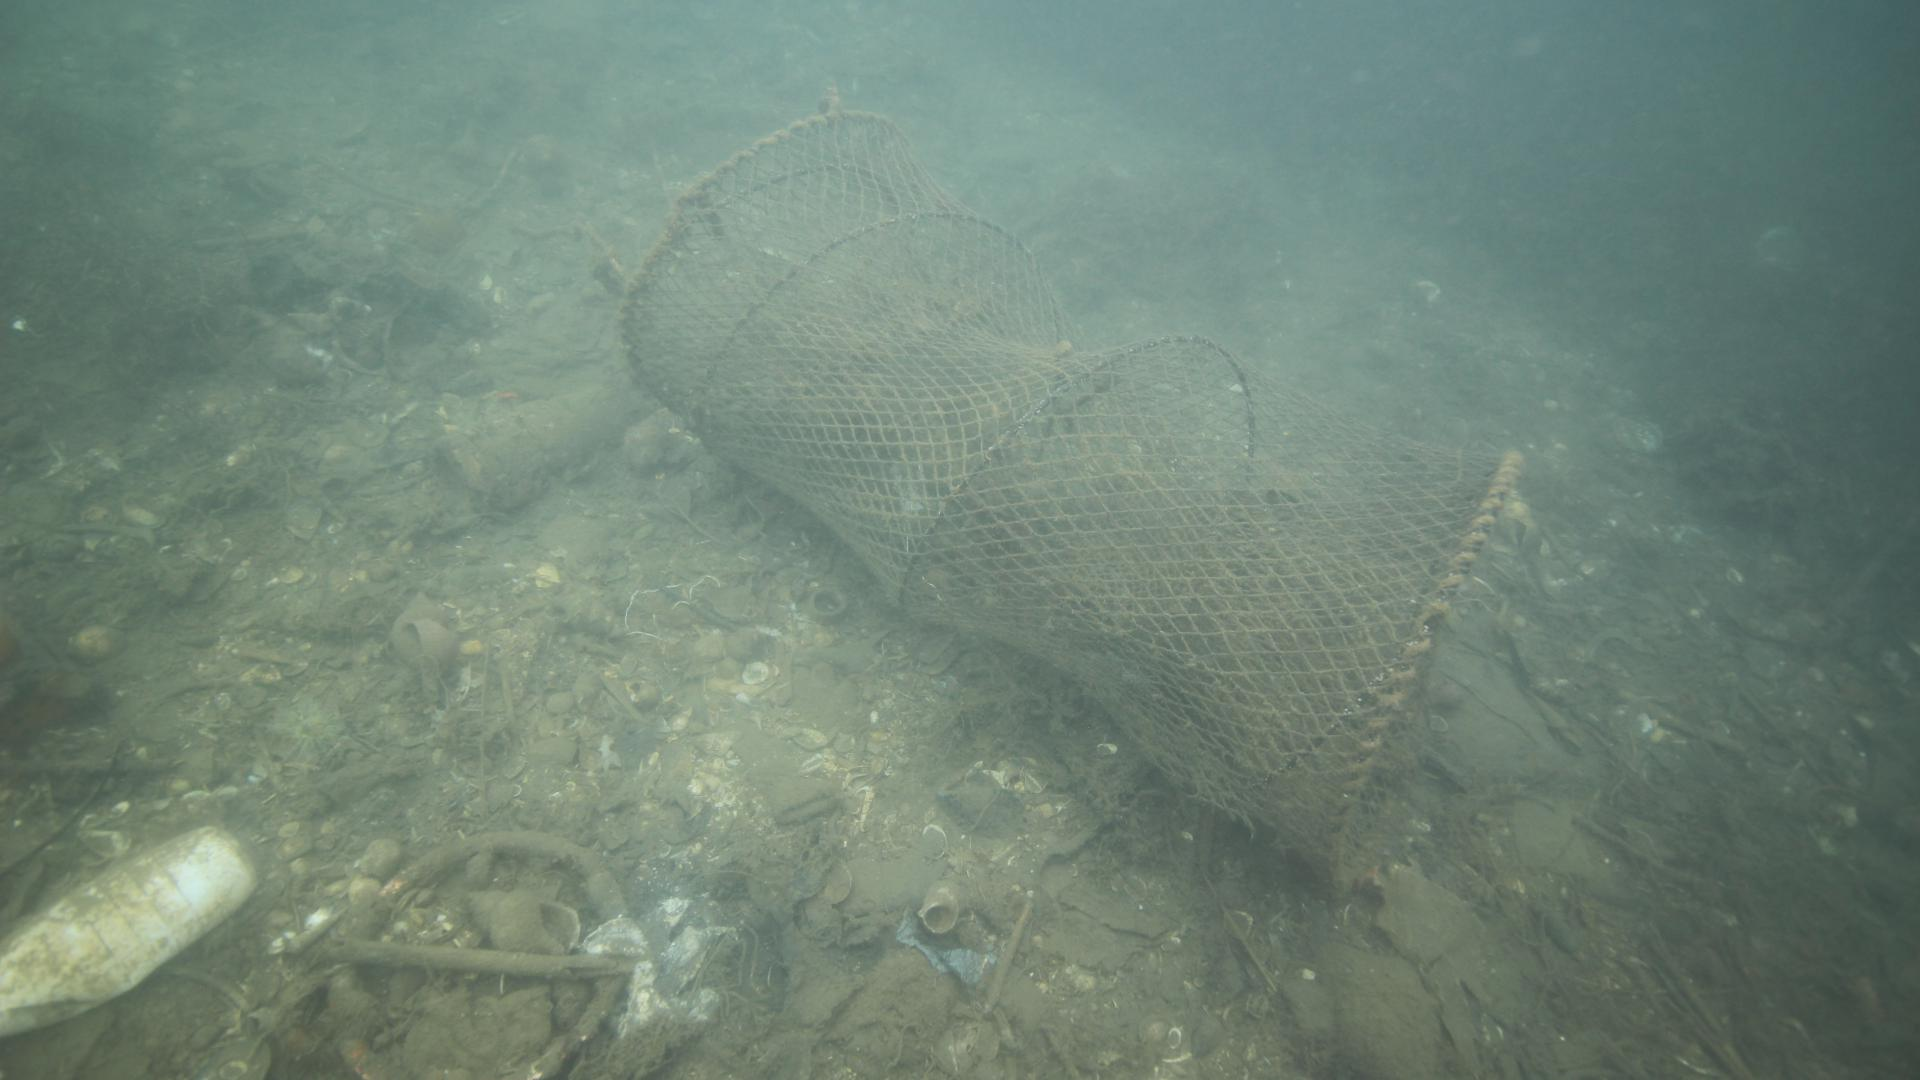spring fish trap: (615, 108, 1524, 895)
